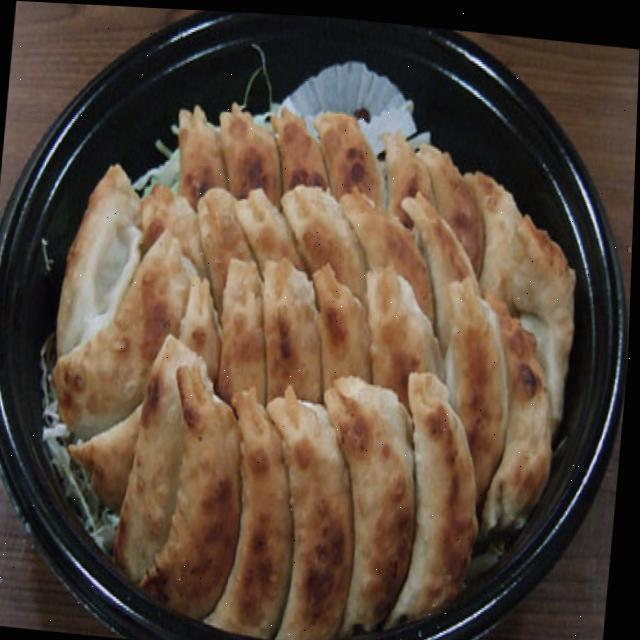带馅早点: (36, 93, 609, 640)
